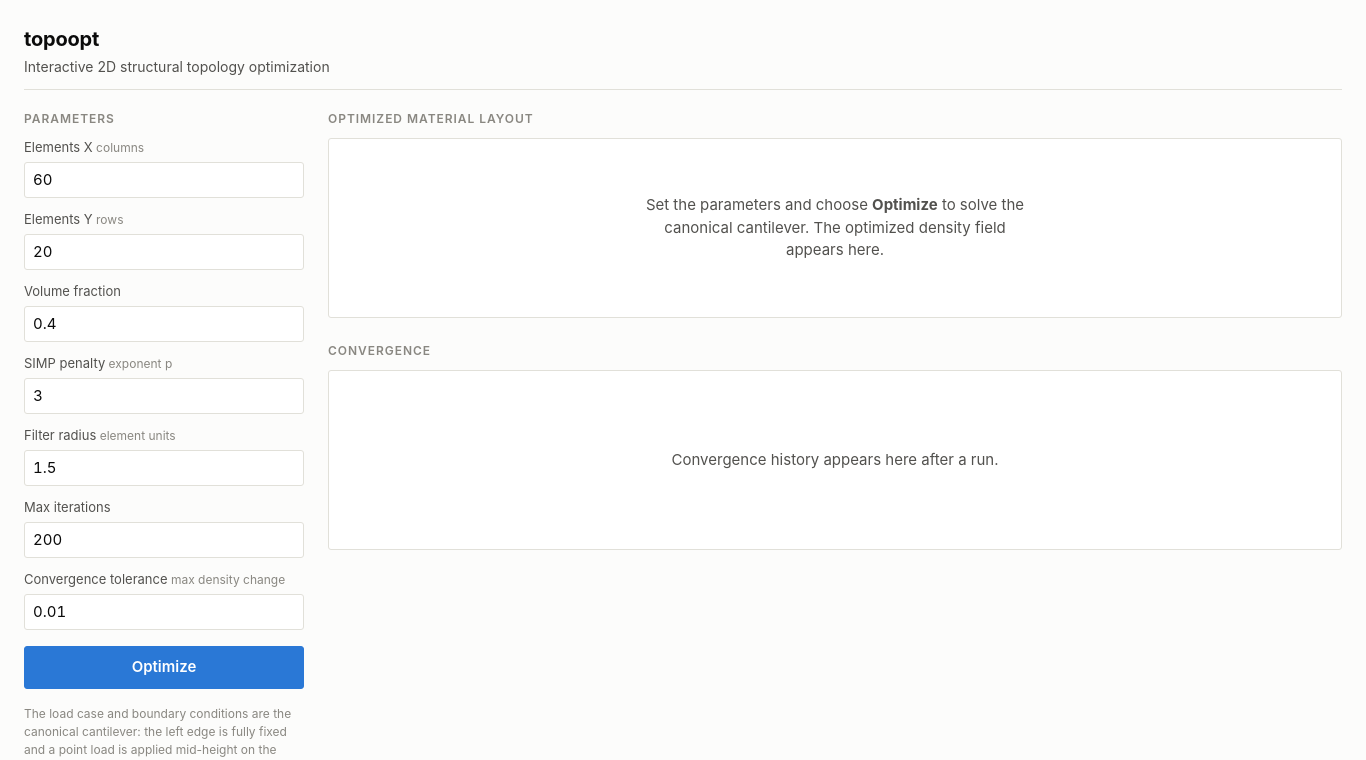
Test: a successful run › reports a run that hit the iteration cap without converging
The image size is (1366, 760).
Click the button "Optimize".
click(164, 667)  # box top-left (24, 646), bottom-right (304, 688)
(page scrolled)
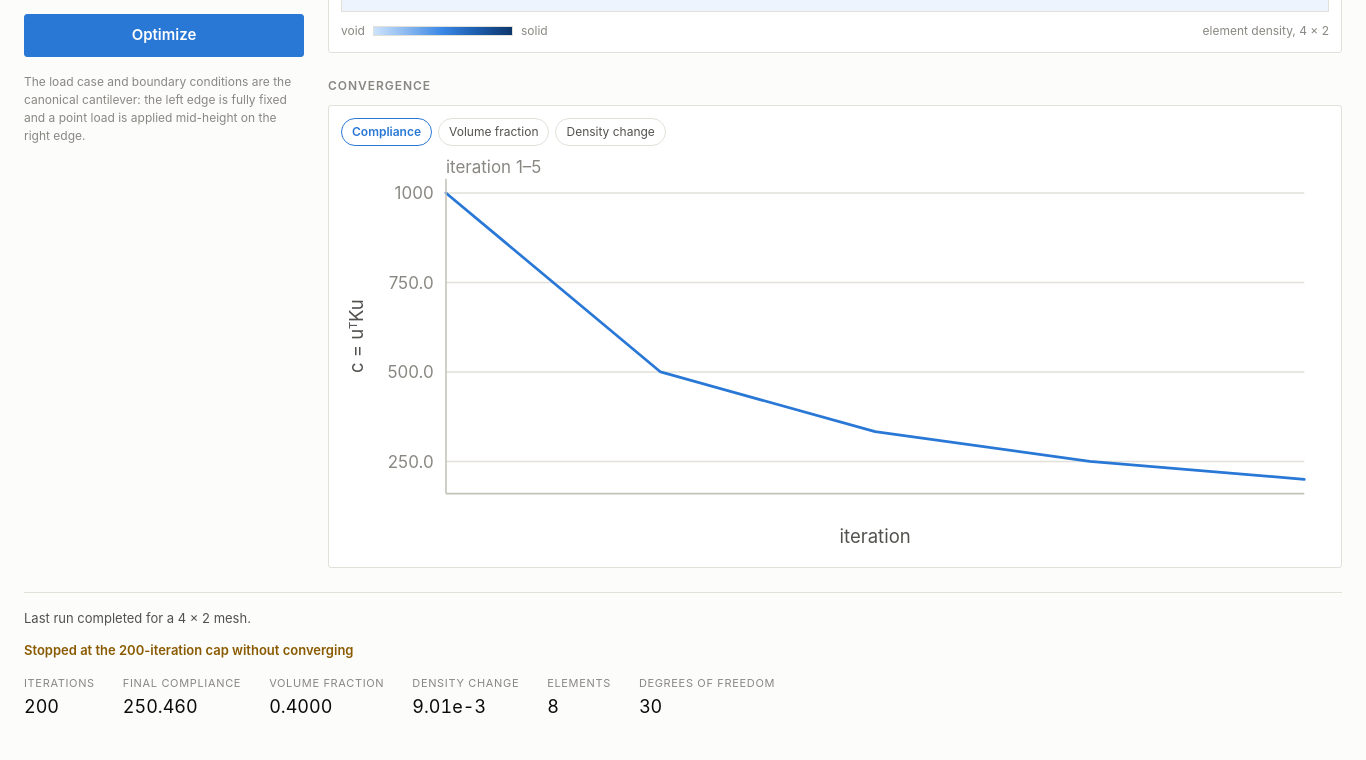
Expected: the text with test id "convergence-status" shows "without converging", top-left (24, 642), bottom-right (354, 658)
